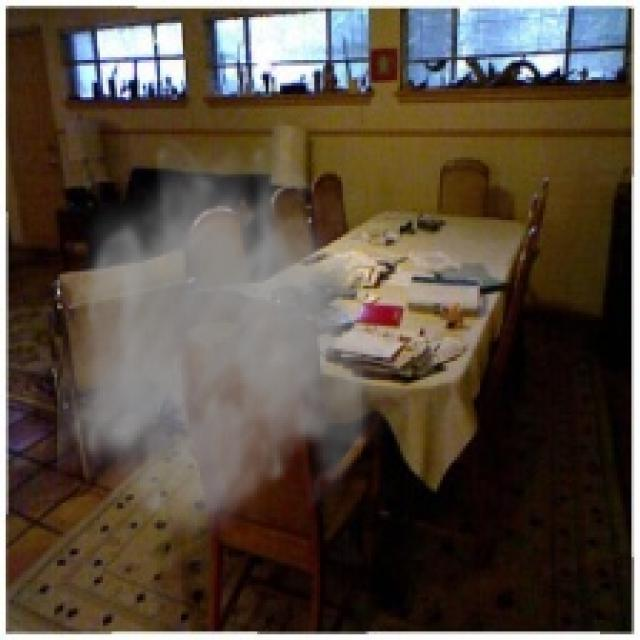Smoke: (57, 132, 403, 548)
